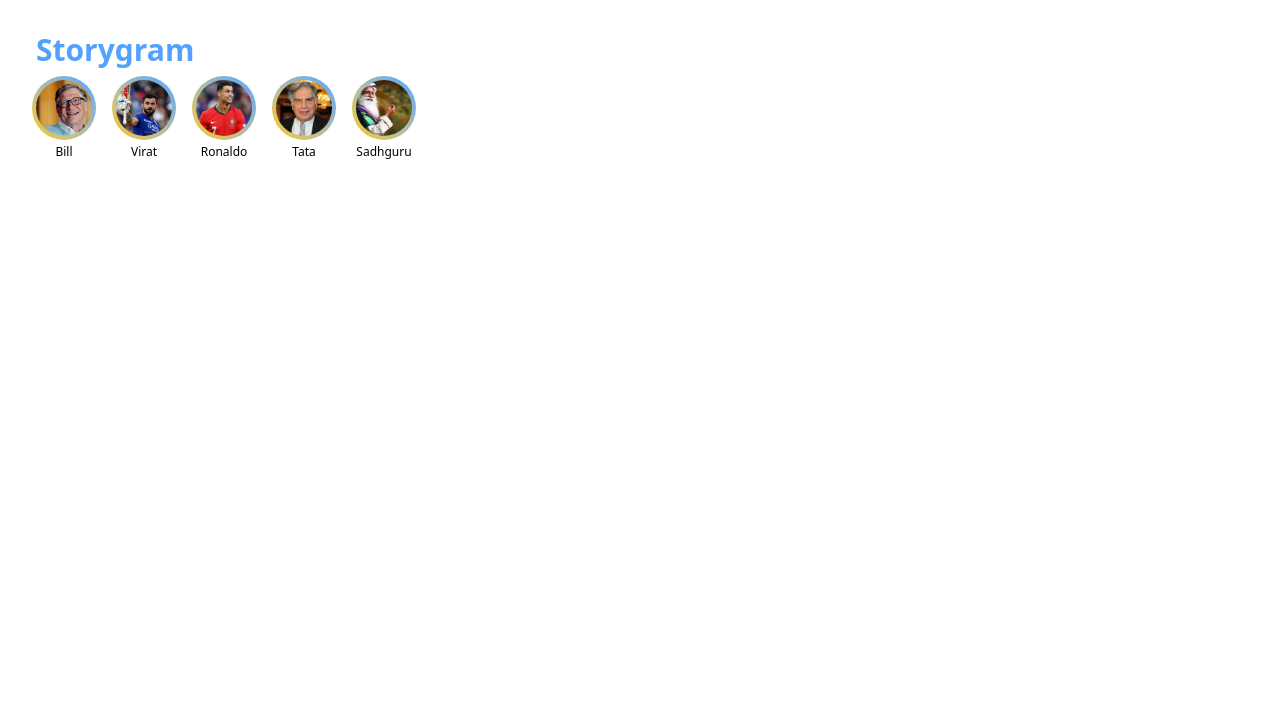
Test: Closing Story Viewer › should close when clicking X button
Click the button with test id "story-button-" at (64, 118), box x1=32 y1=76 x2=96 y2=160
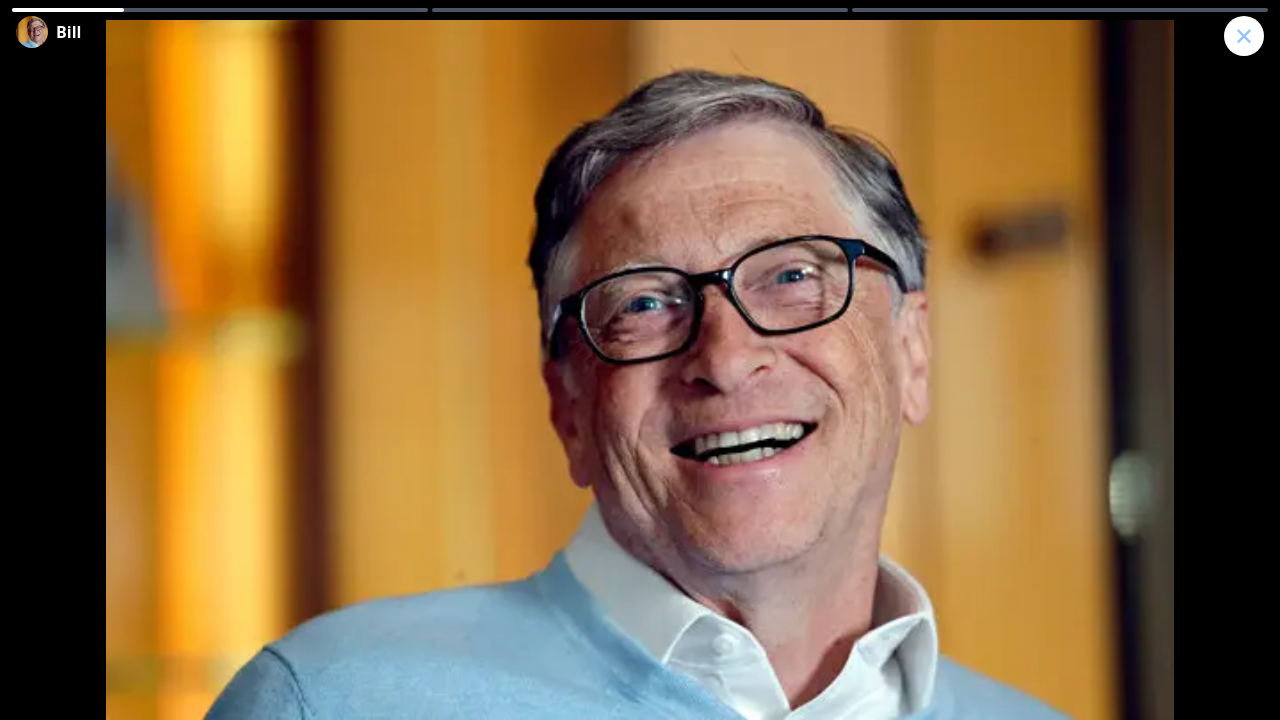
Expected: the button with test id "story-viewer" is shown
Click the button with test id "story-close-button" at (1244, 36), box x1=1224 y1=16 x2=1264 y2=56
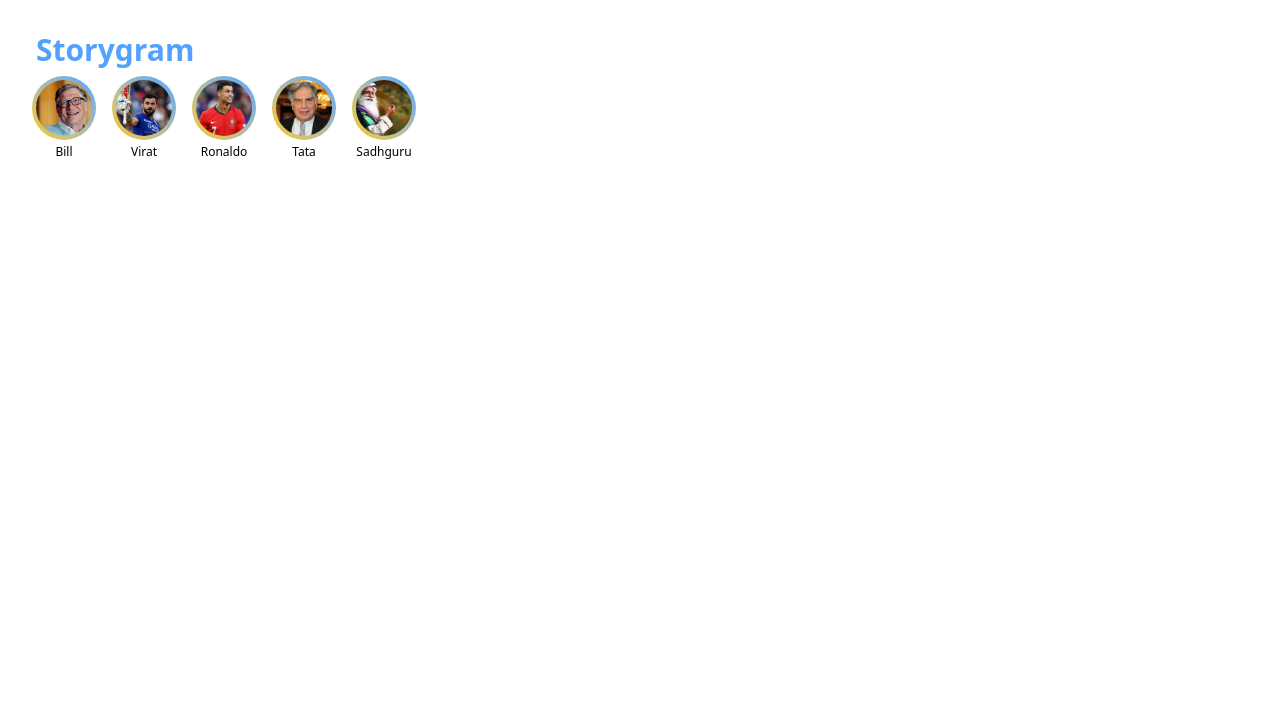
Expected: the button with test id "story-viewer" is gone
